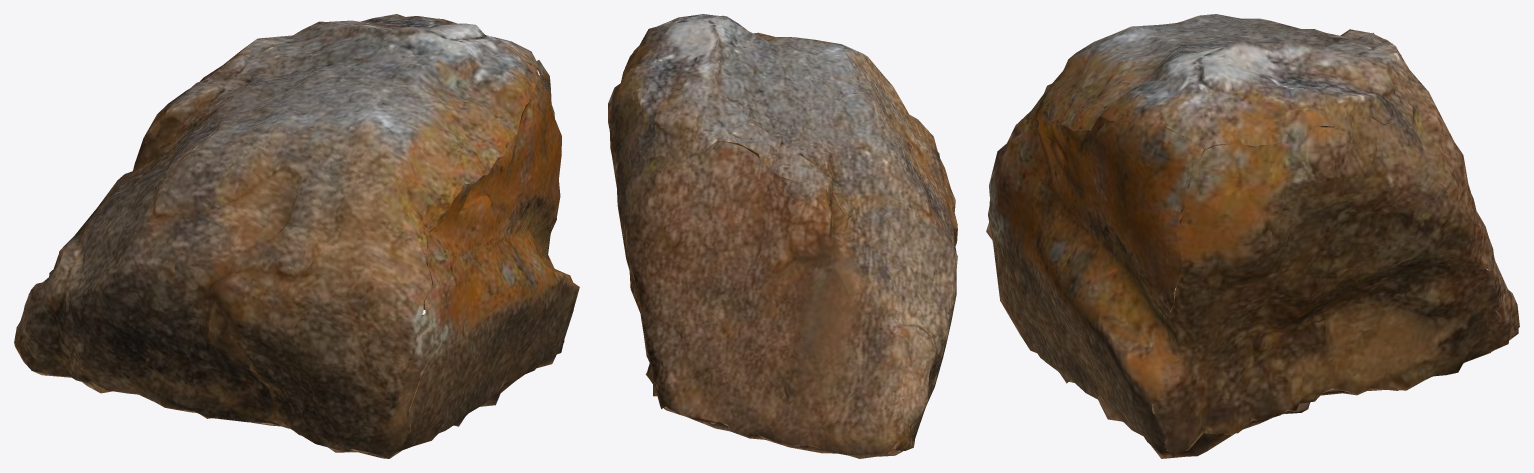
The model's file is namaqualand_boulder_04.glb.
The picture shows the model from 3 angles, left to right: view 1: azimuth 30°, elevation 25°; view 2: azimuth 150°, elevation 25°; view 3: azimuth 270°, elevation 25°; orthographic projection. The views are drawn at different scales.
Visible parts, largest first — view 1: boulder_04; view 2: boulder_04; view 3: boulder_04.
Boxes of the visible parts, x1=… form: boulder_04: x1=14, y1=14, x2=579, y2=458; boulder_04: x1=608, y1=14, x2=957, y2=458; boulder_04: x1=986, y1=14, x2=1519, y2=458.
Size of the model in its own units: 2.52 by 1.9 by 2.5.
1 material, 1 textured.
